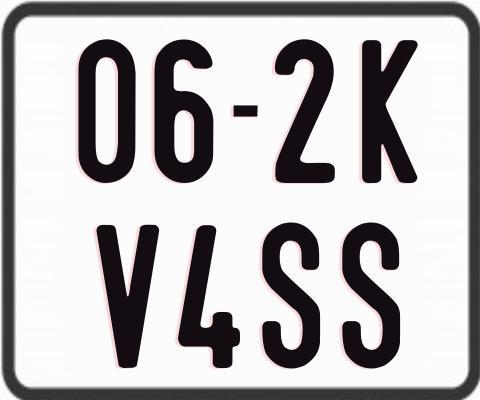0: (78, 36, 140, 181)
2: (273, 37, 336, 184)
4: (178, 224, 245, 368)
6: (152, 37, 215, 182)
K: (362, 37, 419, 184)
S: (261, 222, 325, 367), (342, 221, 403, 368)
V: (93, 223, 158, 371)
